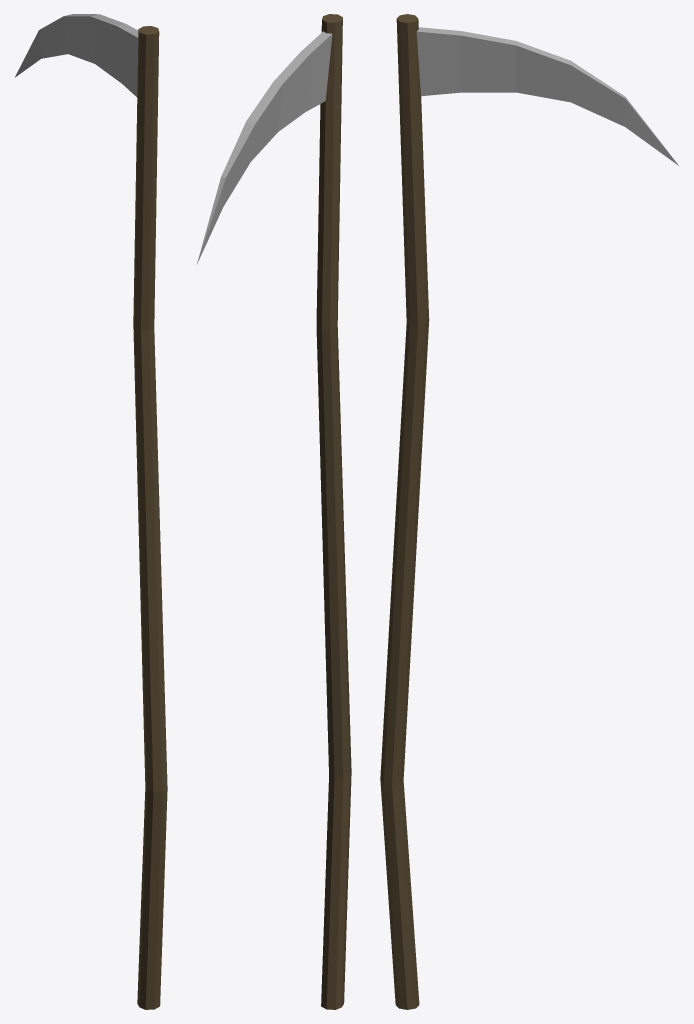
File: scythe.fbx
The picture shows the model from 3 angles, left to right: view 1: azimuth 30°, elevation 25°; view 2: azimuth 150°, elevation 25°; view 3: azimuth 270°, elevation 25°; orthographic projection.
Parts seen in each view (by area): view 1: Cylinder; view 2: Cylinder; view 3: Cylinder.
Part boxes in pixels (box(x1,y1,x2,y2)): Cylinder: box(15, 14, 167, 1009); Cylinder: box(196, 14, 351, 1009); Cylinder: box(380, 14, 678, 1009).
Size of the model in its own units: 0.0417 by 2 by 0.55.
